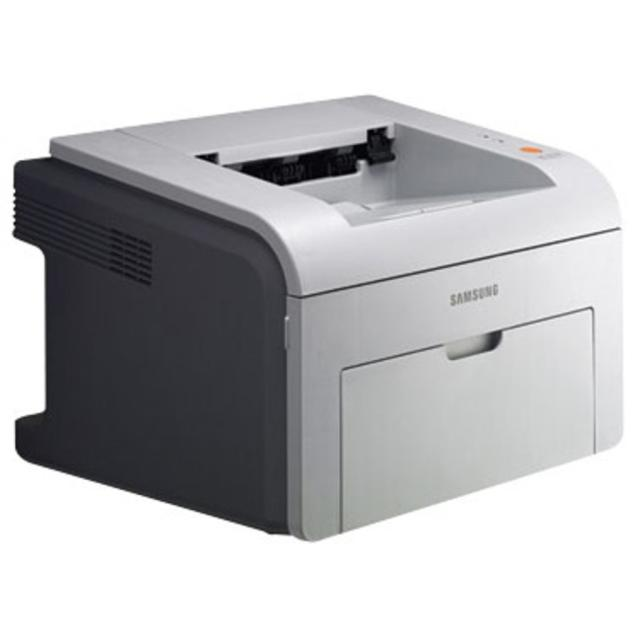printer: (26, 99, 624, 538)
